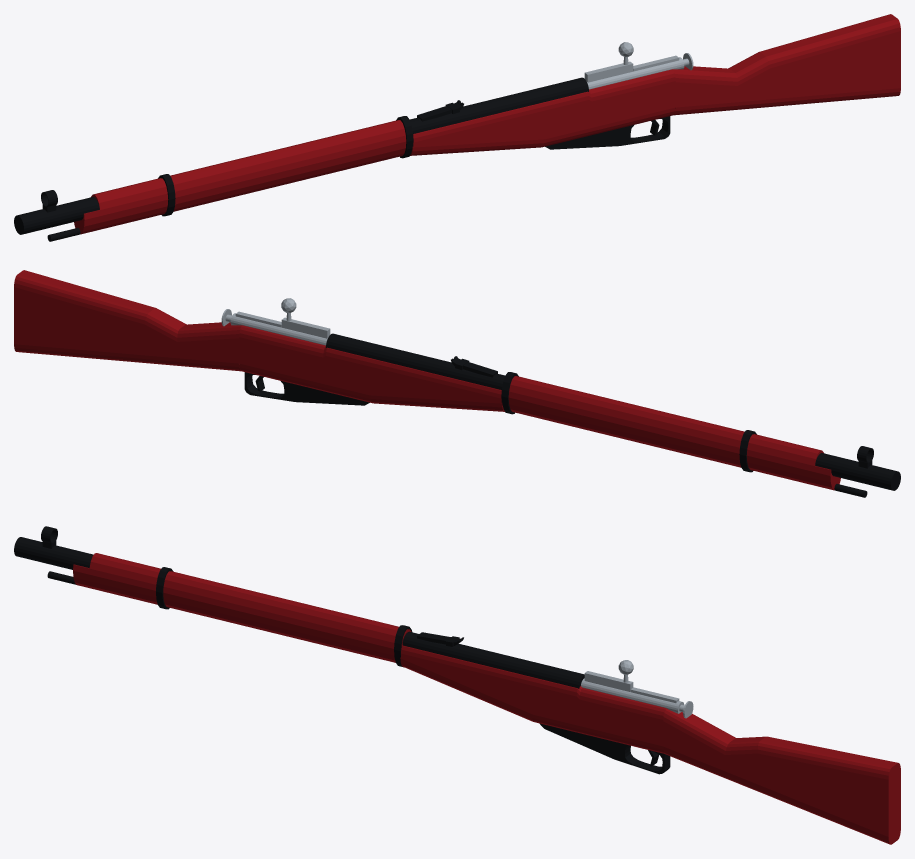
The model's file is mosin-nagant0025.obj.
The picture shows the model from 3 angles, top to bottom: view 1: azimuth 30°, elevation 25°; view 2: azimuth 150°, elevation 25°; view 3: azimuth 330°, elevation 25°; orthographic projection.
Visible parts, largest first — view 1: stock, barrel, triggerGuard, bolt, boltLocker; view 2: stock, barrel, triggerGuard, bolt, boltLocker; view 3: stock, barrel, triggerGuard, bolt.
Boxes of the visible parts, bbox=[...] form: stock: bbox=[74, 14, 900, 234]; barrel: bbox=[14, 77, 588, 234]; triggerGuard: bbox=[545, 116, 670, 149]; bolt: bbox=[587, 57, 684, 89]; boltLocker: bbox=[584, 61, 633, 82]; stock: bbox=[14, 270, 840, 490]; barrel: bbox=[326, 333, 900, 490]; triggerGuard: bbox=[244, 372, 369, 405]; bolt: bbox=[230, 313, 327, 345]; boltLocker: bbox=[281, 317, 330, 338]; stock: bbox=[73, 553, 900, 844]; barrel: bbox=[14, 537, 584, 688]; triggerGuard: bbox=[539, 723, 670, 774]; bolt: bbox=[581, 678, 684, 713].
Size of the model in its own units: 16.32 by 2.07 by 0.4228.
